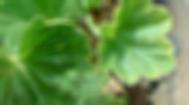Tomato leaf mosaic virus: (0, 18, 132, 105), (91, 0, 178, 84)
